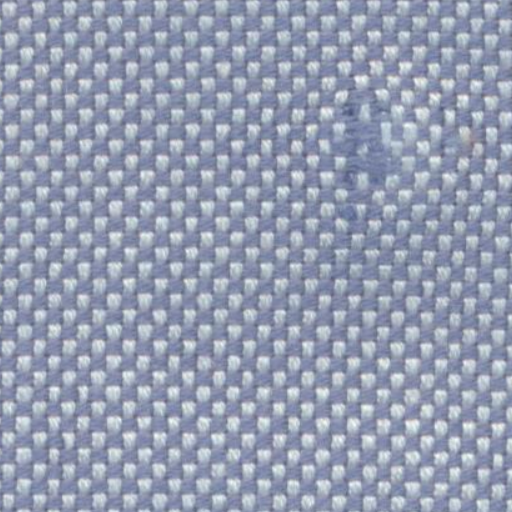DaiSha: (332, 78, 404, 214)
